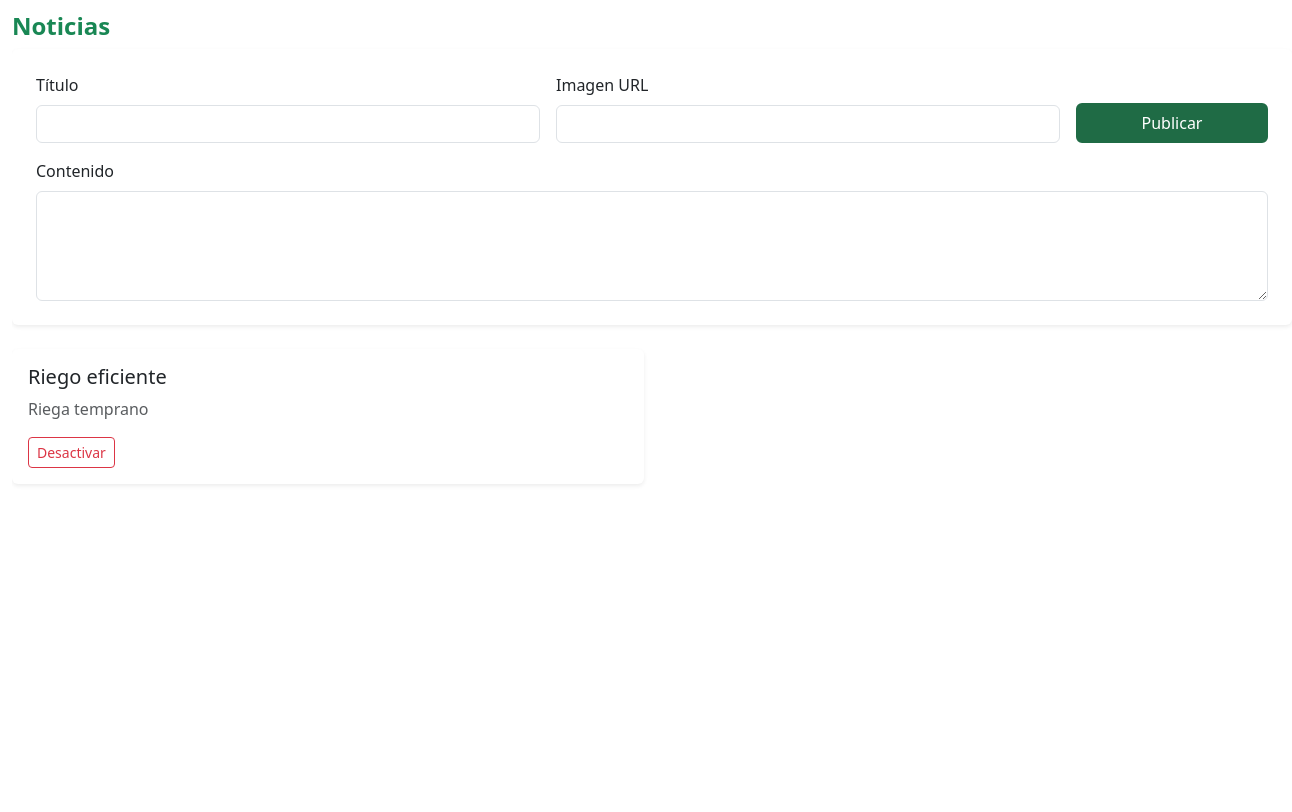
Test case: BlogManager › publica una noticia, la agrega a la lista y limpia el formulario
This screenshot has width=1292, height=812.
expect the heading "Riego eficiente" is shown: met, box x1=28 y1=363 x2=167 y2=390
Type "Compost" into the field labelled "Título". click: (288, 124)
box: x1=36 y1=105 x2=540 y2=143
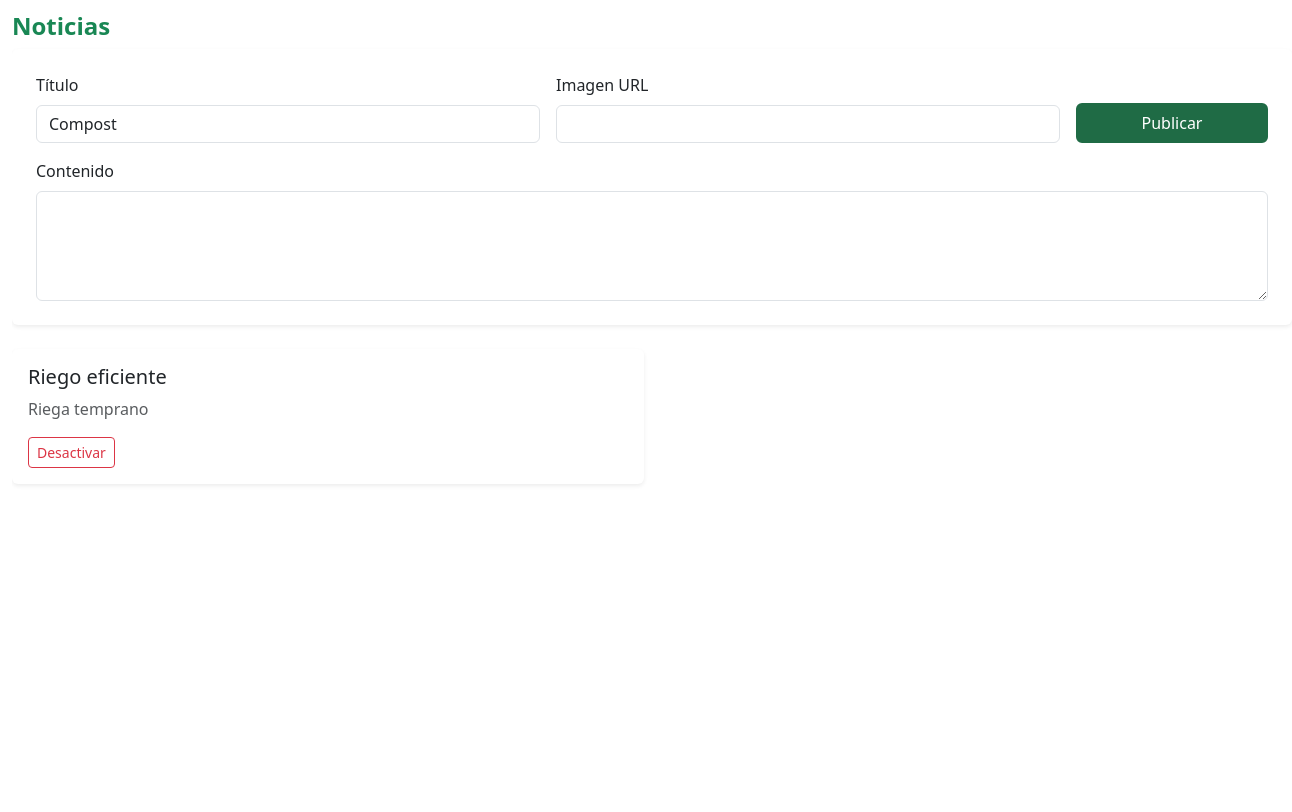
Type "http://x.cl/a.png" into the field labelled "Imagen URL". click: (808, 124)
box: x1=556 y1=105 x2=1060 y2=143
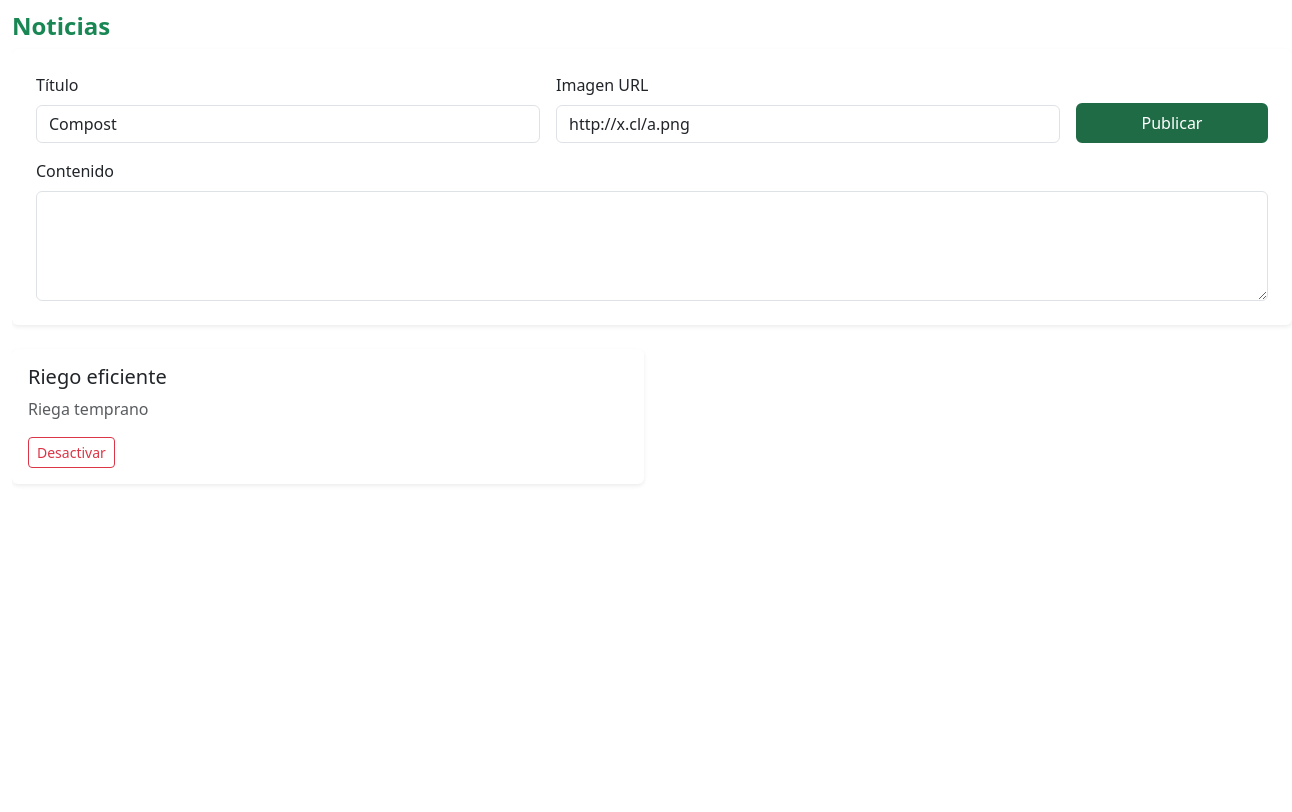
Type "Aprende a hacer compost" into the text box labelled "Contenido". click: (652, 246)
box: x1=36 y1=191 x2=1268 y2=301
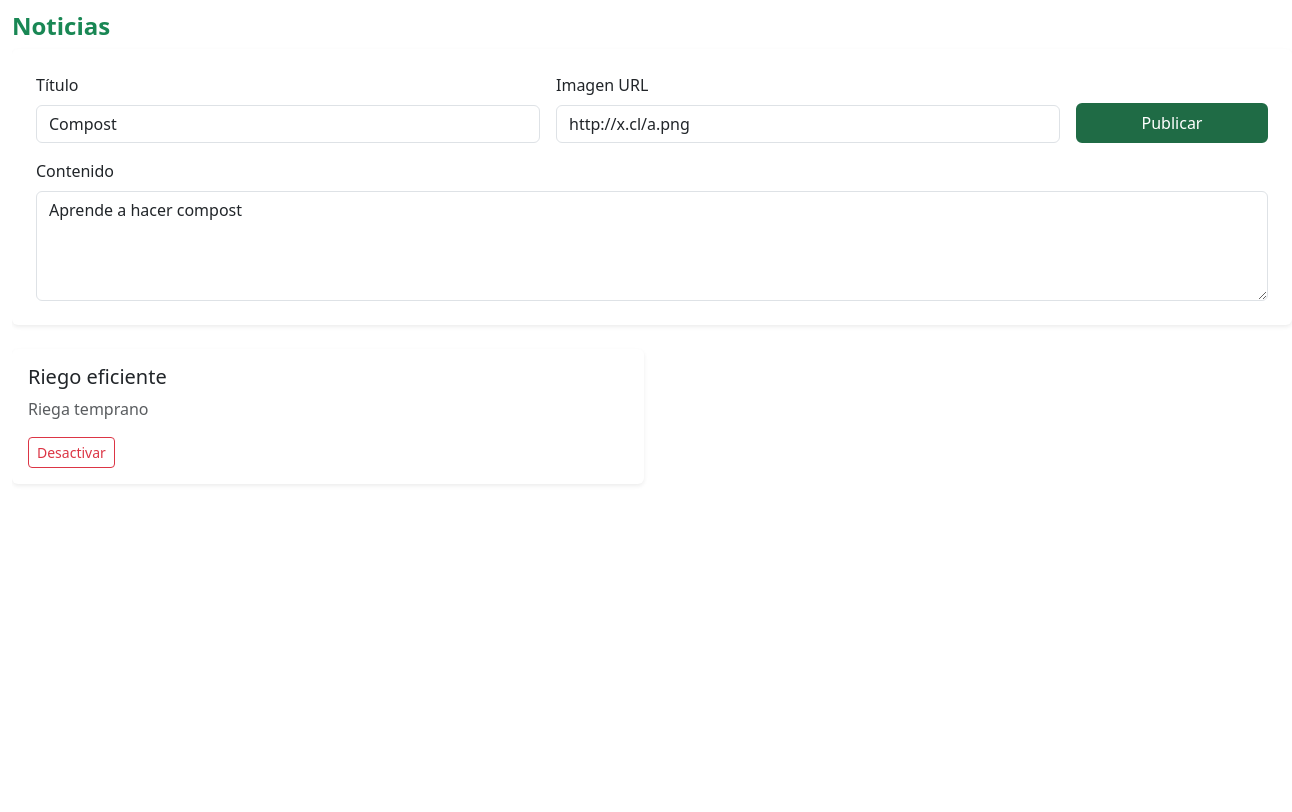
Click the button "Publicar". click: (1172, 123)
box: x1=1076 y1=103 x2=1268 y2=143
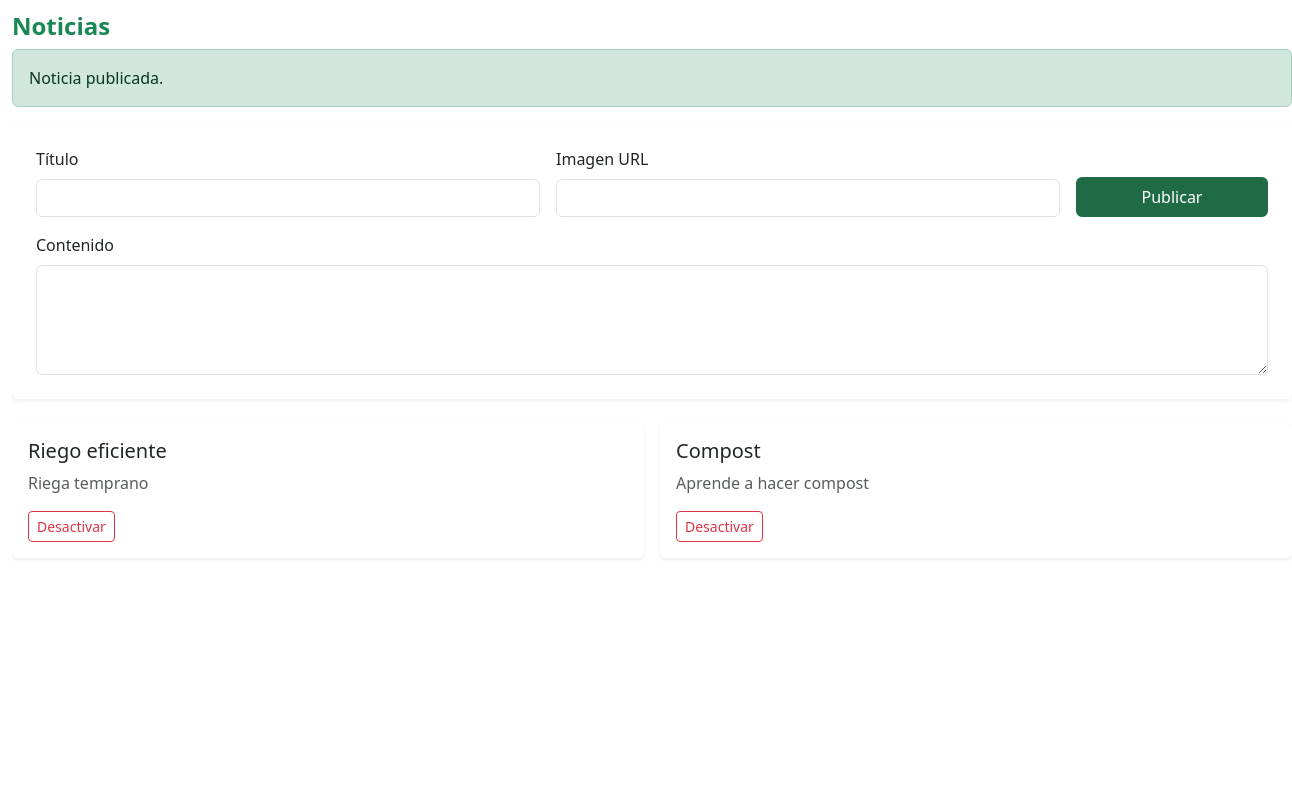
expect the text "Noticia publicada." is shown: met, box x1=12 y1=49 x2=1291 y2=107
expect the heading "Compost" is shown: met, box x1=676 y1=437 x2=761 y2=464
expect the field labelled "Título" is empty: met, box x1=36 y1=179 x2=540 y2=217
